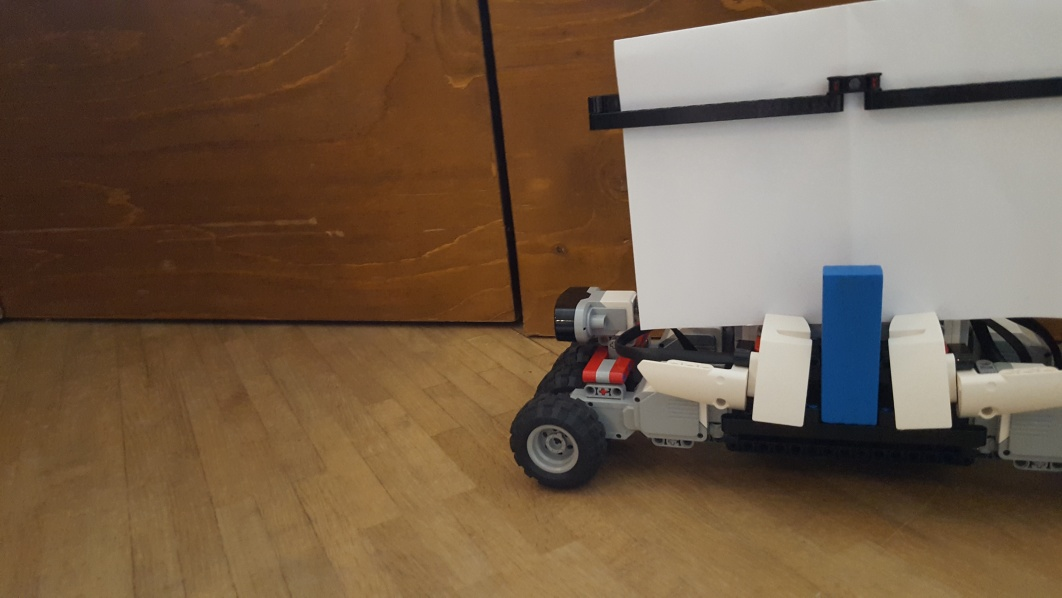beam: (818, 260, 883, 427)
